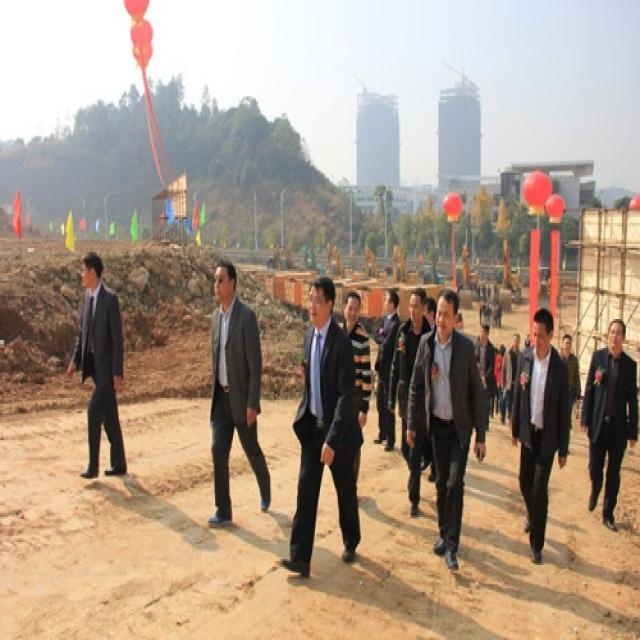Sin_Casco_Mascarrilla: (306, 274, 336, 331), (212, 258, 236, 307), (79, 249, 104, 294)
